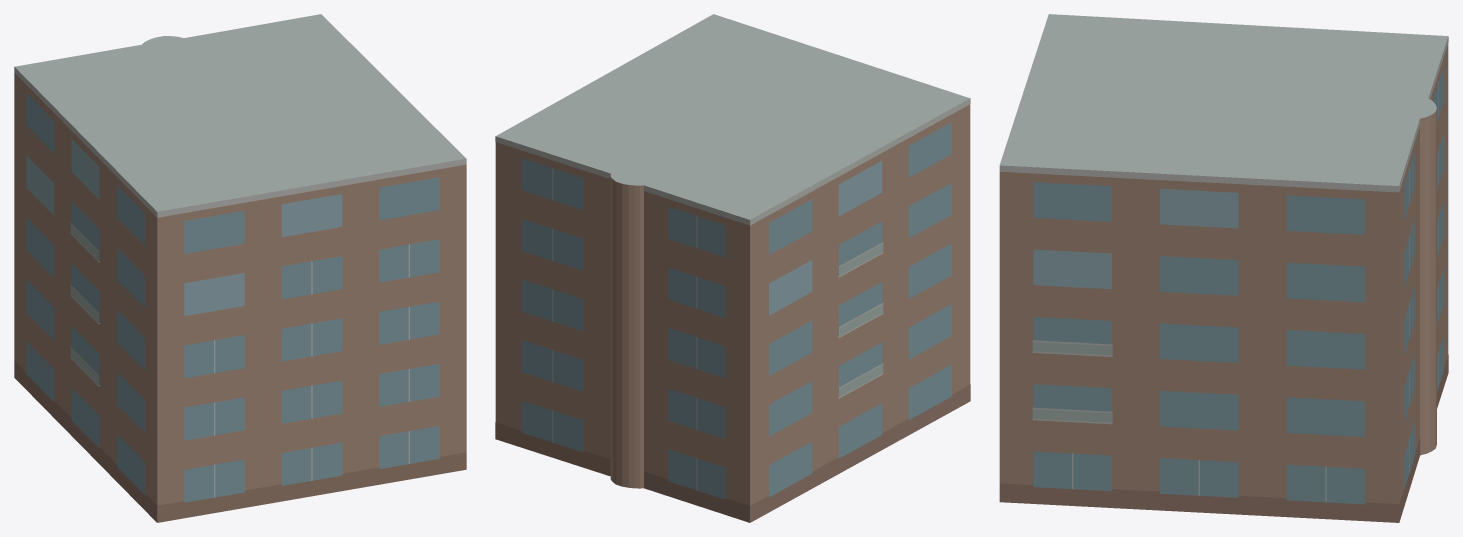
File: survey-upis-32885781.glb
3 views of the same model, side by side, from view 1: azimuth 30°, elevation 25°; view 2: azimuth 150°, elevation 25°; view 3: azimuth 270°, elevation 25° (orthographic). The views are drawn at different scales.
Parts seen in each view (by area): view 1: survey-upis-32885781.tmp; view 2: survey-upis-32885781.tmp; view 3: survey-upis-32885781.tmp.
Part boxes in pixels (x1,y1,x2,y2): survey-upis-32885781.tmp: [14, 14, 466, 522]; survey-upis-32885781.tmp: [495, 14, 970, 522]; survey-upis-32885781.tmp: [999, 14, 1448, 522].
Size of the model in its own units: 14.27 by 13 by 15.72.
